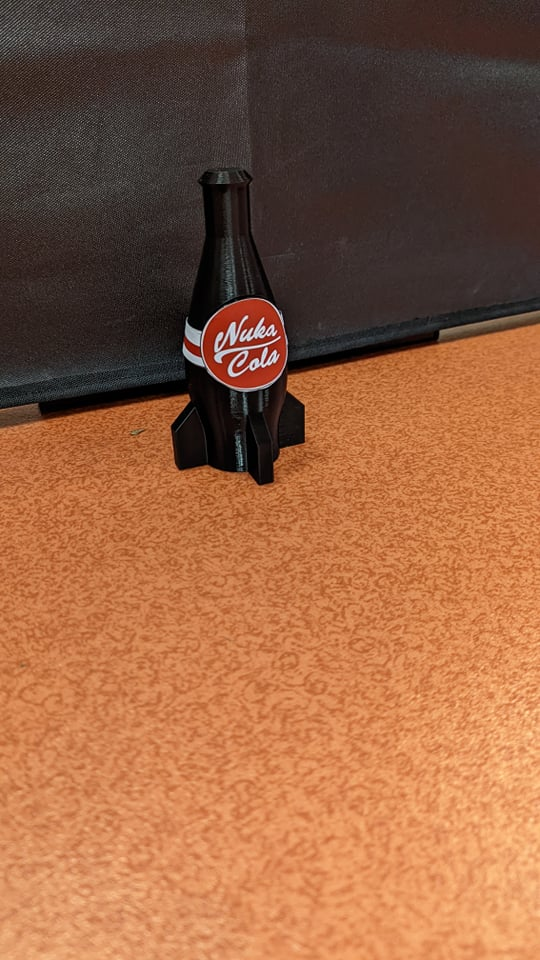bottle: (162, 155, 311, 490)
